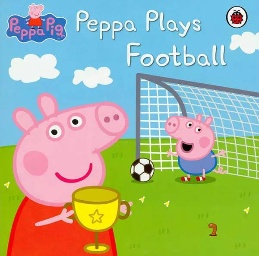Peppa: (8, 92, 129, 256)
